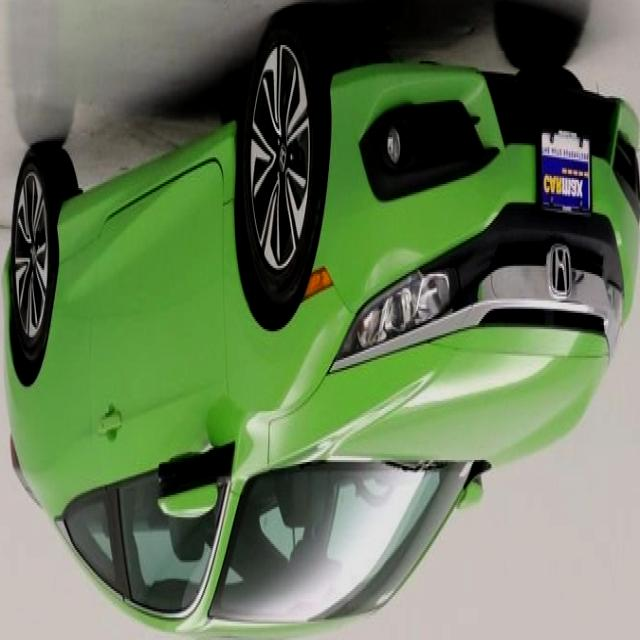green: (9, 27, 639, 640)
